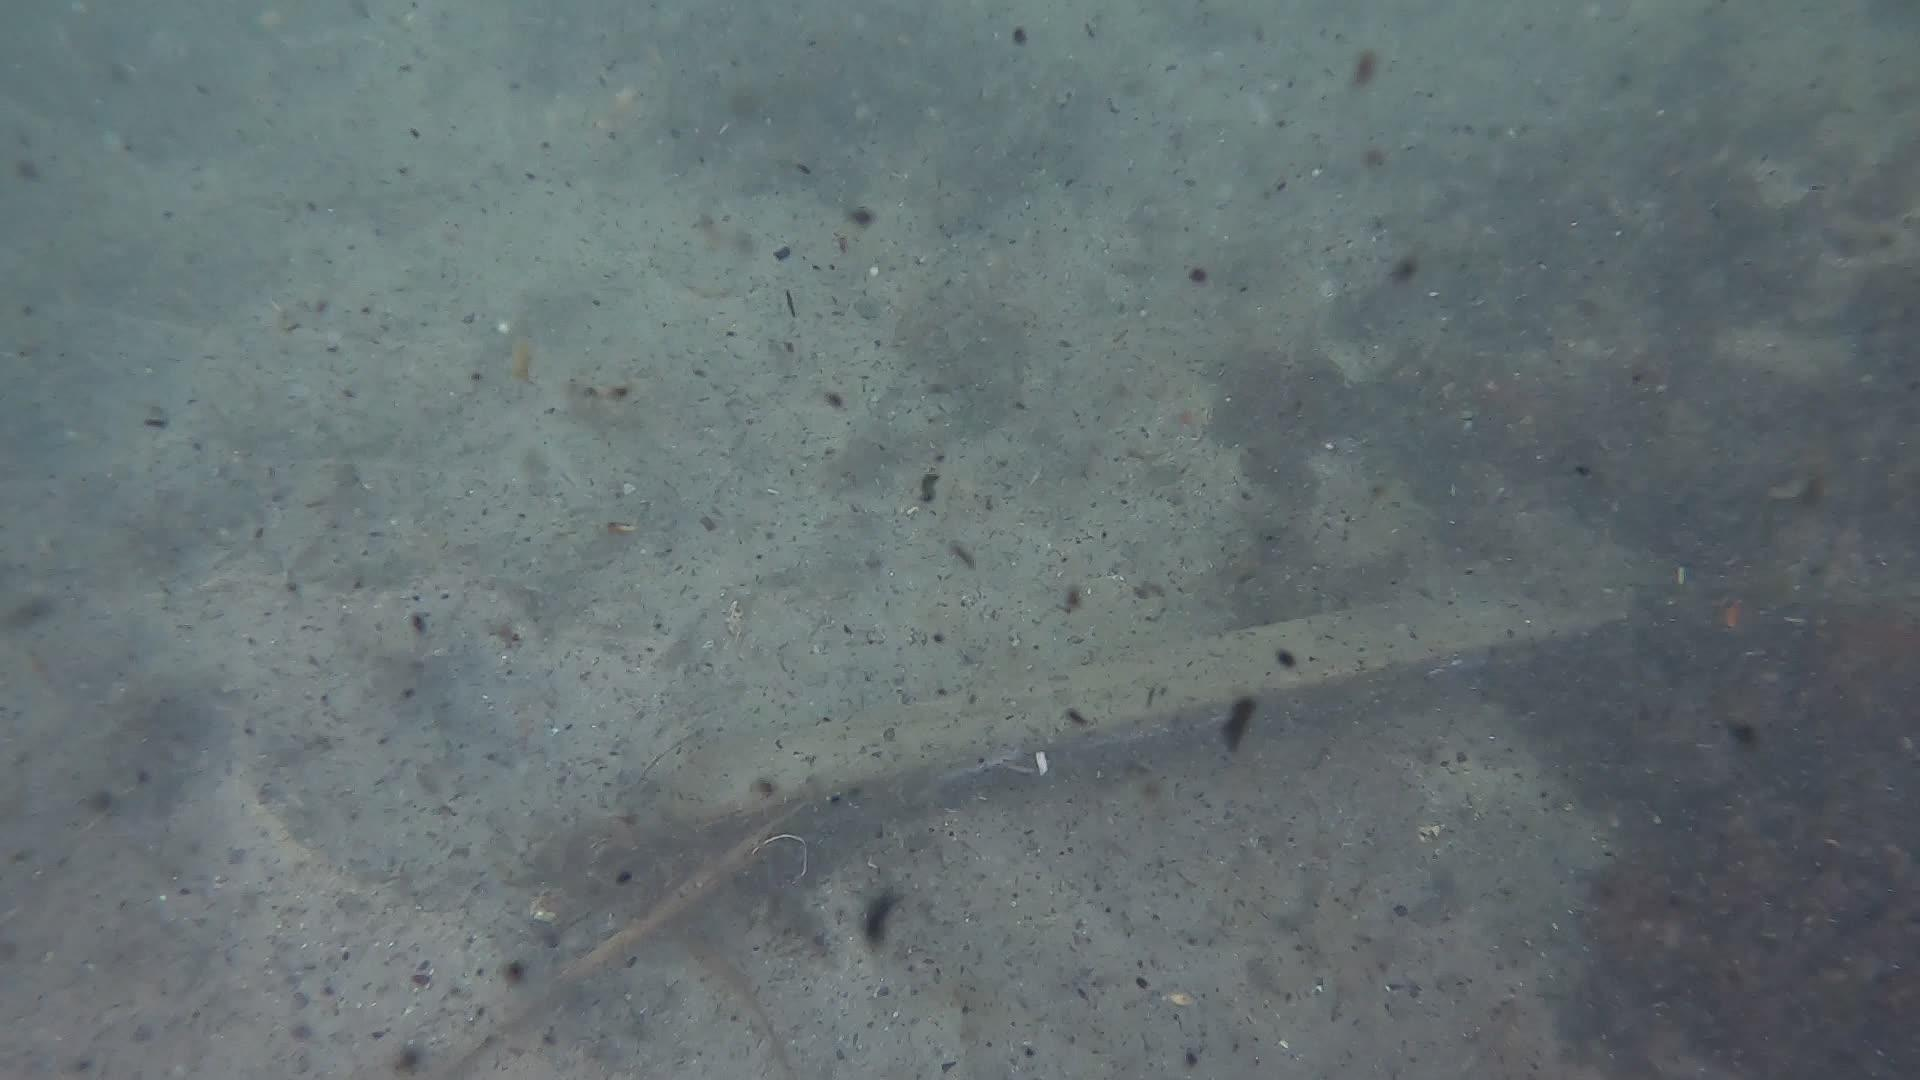wood: (665, 597, 1619, 829)
